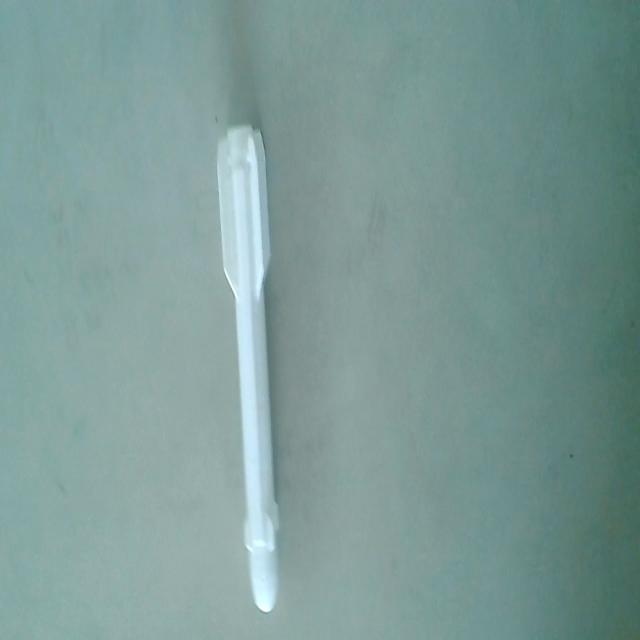Rocket: (212, 118, 284, 619)
